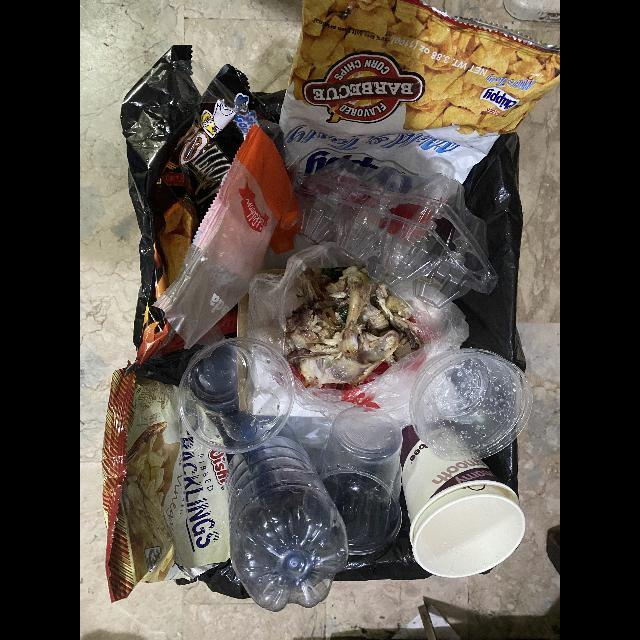cardboard: (401, 428, 525, 580)
food_wrapper: (279, 0, 560, 189), (121, 47, 286, 364), (152, 122, 304, 348), (102, 371, 230, 604)
left_over_food: (287, 265, 413, 383)
plastic_bottle: (226, 421, 347, 612)
plastic_container: (297, 156, 499, 310), (405, 349, 532, 462), (178, 337, 293, 451), (323, 404, 404, 556)
